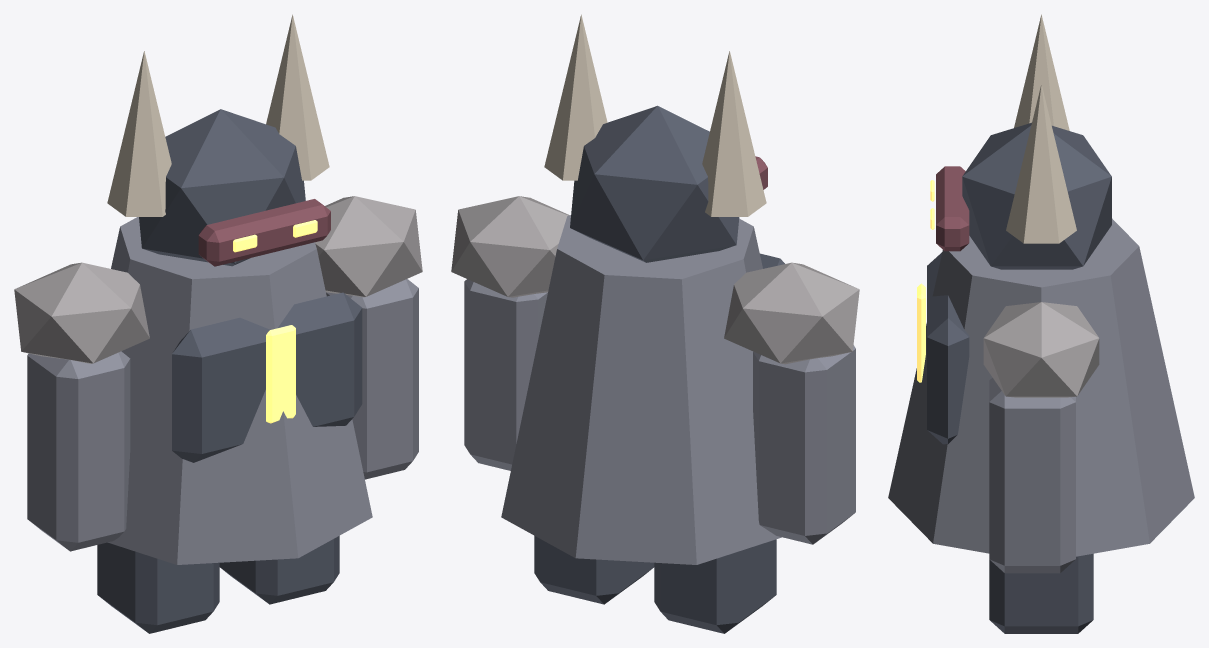
The model's file is guardian.glb.
3 renders of one model, left to right at view 1: azimuth 30°, elevation 25°; view 2: azimuth 150°, elevation 25°; view 3: azimuth 270°, elevation 25°, orthographic. The views are drawn at different scales.
Parts seen in each view (by area): view 1: Bulky torso, Iron chest, Heavy arm, Helmet, Heavy arm.001, Shoulder, Shoulder.001, Leg, Horn, Visor, Horn.001, Leg.001 (+1 smaller); view 2: Bulky torso, Helmet, Heavy arm, Heavy arm.001, Shoulder, Shoulder.001, Leg, Horn, Horn.001, Leg.001; view 3: Bulky torso, Heavy arm.001, Helmet, Shoulder.001, Leg.001, Horn.001, Iron chest, Horn, Visor, Chest sigil.
Part boxes in pixels (left/top/right/bottom): Bulky torso: left=107, top=217, right=372, bottom=564; Iron chest: left=172, top=292, right=362, bottom=462; Heavy arm: left=27, top=351, right=130, bottom=551; Helmet: left=139, top=109, right=305, bottom=266; Heavy arm.001: left=326, top=279, right=418, bottom=479; Shoulder: left=14, top=262, right=149, bottom=363; Shoulder.001: left=315, top=196, right=422, bottom=297; Leg: left=97, top=542, right=219, bottom=633; Horn: left=107, top=51, right=171, bottom=216; Visor: left=198, top=199, right=330, bottom=266; Horn.001: left=266, top=14, right=329, bottom=180; Leg.001: left=219, top=536, right=339, bottom=604; Bulky torso: left=501, top=215, right=781, bottom=564; Helmet: left=570, top=105, right=739, bottom=262; Heavy arm: left=753, top=345, right=855, bottom=544; Heavy arm.001: left=464, top=279, right=547, bottom=470; Shoulder: left=724, top=262, right=859, bottom=364; Shoulder.001: left=451, top=196, right=569, bottom=297; Leg: left=654, top=539, right=776, bottom=633; Horn: left=702, top=51, right=766, bottom=216; Horn.001: left=544, top=14, right=607, bottom=180; Leg.001: left=534, top=536, right=654, bottom=604; Bulky torso: left=888, top=218, right=1194, bottom=556; Heavy arm.001: left=989, top=378, right=1075, bottom=573; Helmet: left=962, top=122, right=1111, bottom=269; Shoulder.001: left=983, top=302, right=1099, bottom=397; Leg.001: left=989, top=553, right=1093, bottom=633; Horn.001: left=1006, top=84, right=1076, bottom=243; Iron chest: left=927, top=252, right=969, bottom=444; Horn: left=1014, top=14, right=1069, bottom=130; Visor: left=936, top=166, right=969, bottom=251; Chest sigil: left=917, top=283, right=925, bottom=382.
Size of the model in its own units: 1.97 by 2.7 by 1.38.
